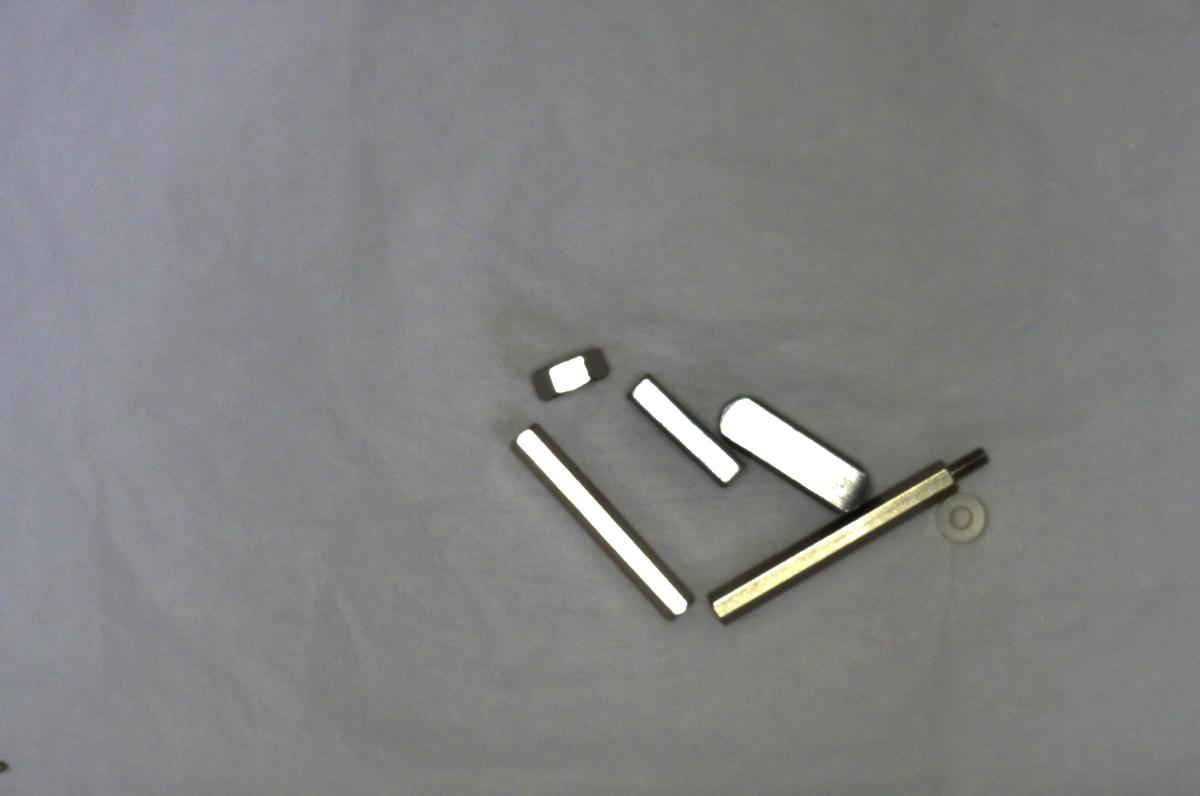Double hexagonal column: (508, 419, 700, 621)
Hexagon nut: (524, 341, 618, 410)
Hexagonal steel column: (704, 445, 997, 625)
Keybar: (715, 390, 871, 514)
Plastic cushion pillar: (934, 489, 992, 547)
Rectangular nut: (624, 370, 742, 490)
